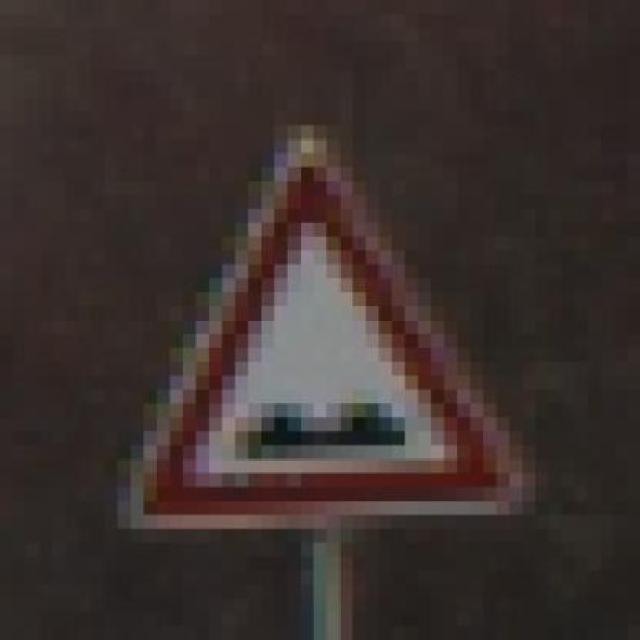Uneven Road: (91, 97, 548, 543)
